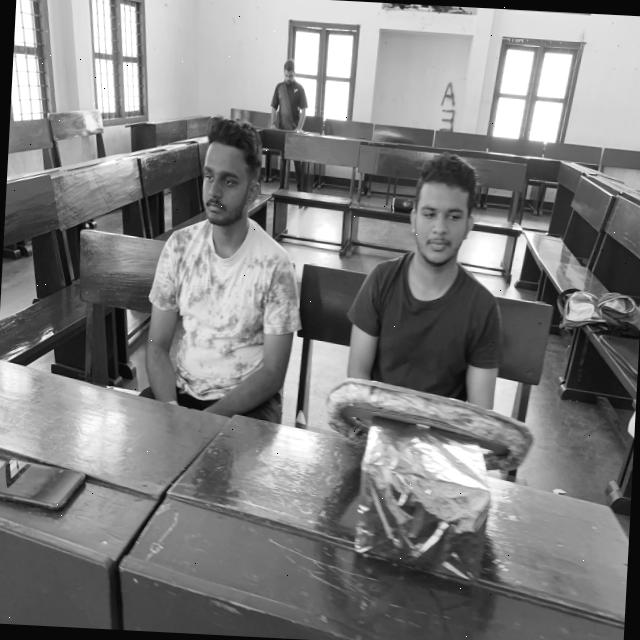no-seatbelt: (338, 256, 510, 468), (136, 220, 304, 433)
